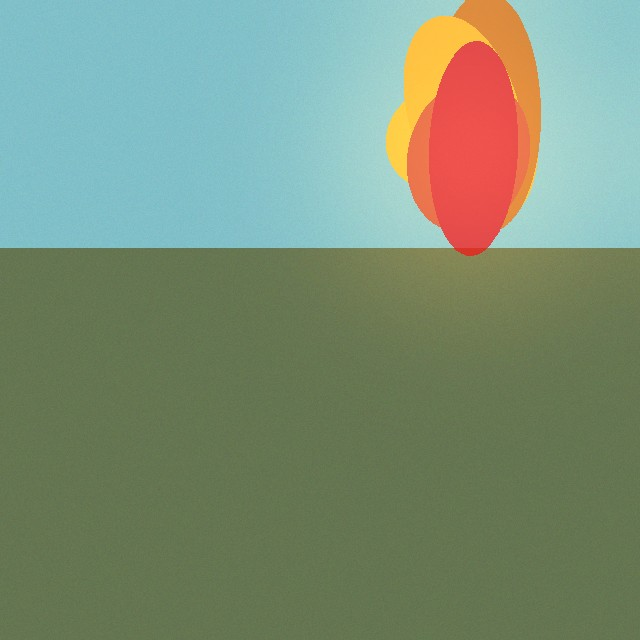fire: (379, 75, 559, 233)
